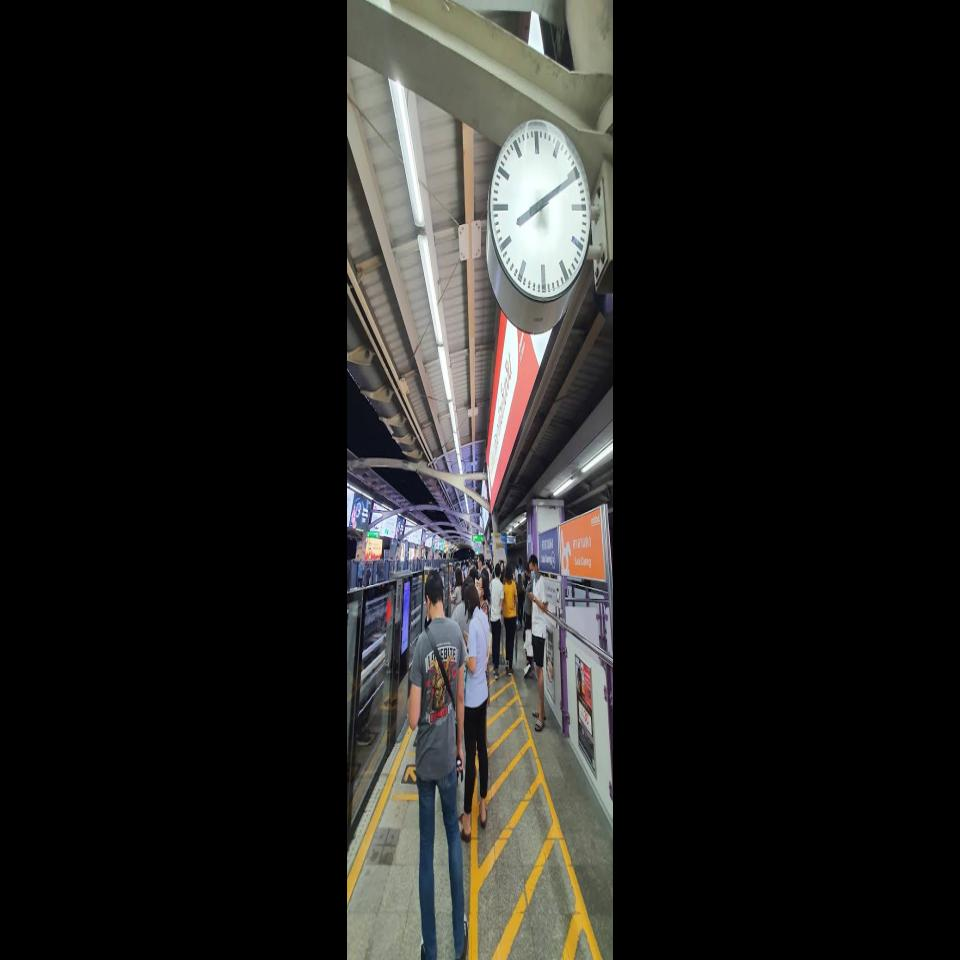signage: (559, 505, 608, 583), (538, 524, 560, 576)
